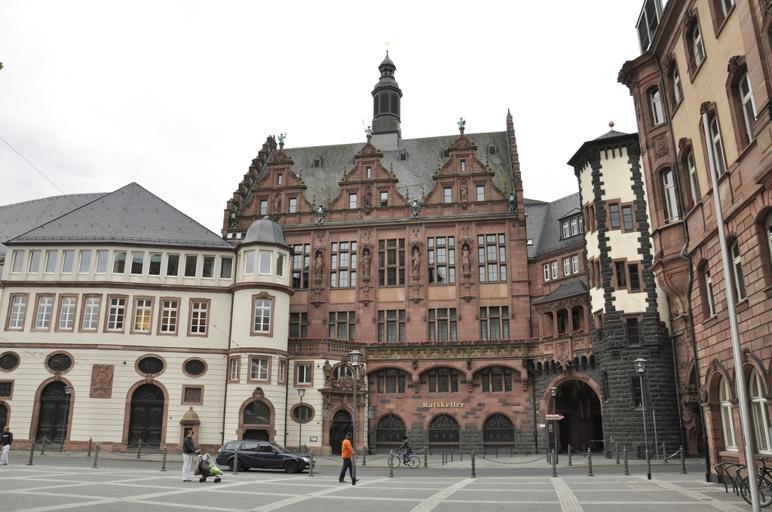non-vehicle: (740, 457, 772, 507), (388, 448, 420, 469)
